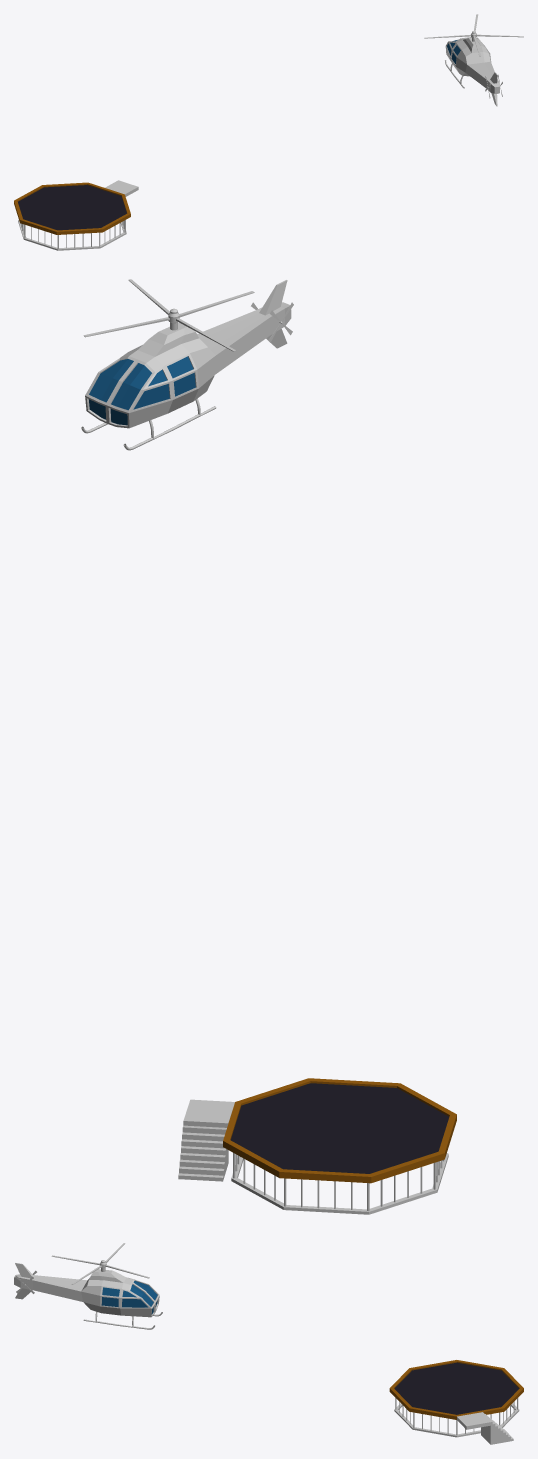
The model's file is copter_000109.obj.
3 renders of one model, top to bottom at view 1: azimuth 30°, elevation 25°; view 2: azimuth 150°, elevation 25°; view 3: azimuth 270°, elevation 25°, orthographic. The views are drawn at different scales.
Visible parts, largest first — view 1: Cylinder.001_Cylinder.012, Helicopter.007_Cylinder.008, Helicopter.001_Cylinder.001; view 2: Cylinder.001_Cylinder.012, Helicopter.007_Cylinder.008, Helicopter.001_Cylinder.001; view 3: Cylinder.001_Cylinder.012, Helicopter.007_Cylinder.008, Helicopter.001_Cylinder.001.
Part boxes in pixels (x1=…): Cylinder.001_Cylinder.012: x1=14, y1=180, x2=138, y2=250; Helicopter.007_Cylinder.008: x1=445, y1=37, x2=499, y2=106; Helicopter.001_Cylinder.001: x1=424, y1=14, x2=523, y2=56; Cylinder.001_Cylinder.012: x1=178, y1=1078, x2=456, y2=1214; Helicopter.007_Cylinder.008: x1=81, y1=280, x2=291, y2=450; Helicopter.001_Cylinder.001: x1=83, y1=279, x2=254, y2=351; Cylinder.001_Cylinder.012: x1=389, y1=1360, x2=523, y2=1444; Helicopter.007_Cylinder.008: x1=14, y1=1263, x2=162, y2=1329; Helicopter.001_Cylinder.001: x1=51, y1=1243, x2=149, y2=1284.
Bounding box in the file's own units: 21.38 × 15.68 × 25.71.
